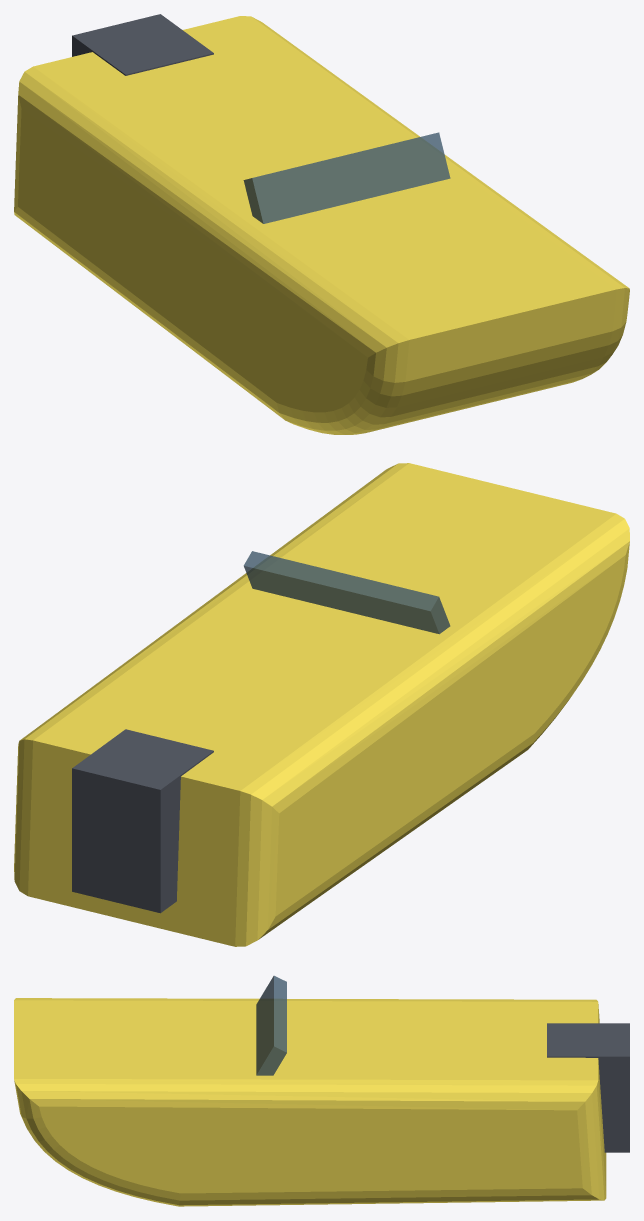
File: veh_jetski.glb
3 views of the same model, one above another, from view 1: azimuth 30°, elevation 25°; view 2: azimuth 150°, elevation 25°; view 3: azimuth 270°, elevation 25° (orthographic). The views are drawn at different scales.
Visible parts, largest first — view 1: veh_jetski; view 2: veh_jetski; view 3: veh_jetski.
Part boxes in pixels (x1=…): veh_jetski: x1=14, y1=14, x2=629, y2=434; veh_jetski: x1=14, y1=463, x2=629, y2=946; veh_jetski: x1=14, y1=975, x2=629, y2=1206.
Size of the model in its own units: 1.22 by 0.9022 by 3.26.
